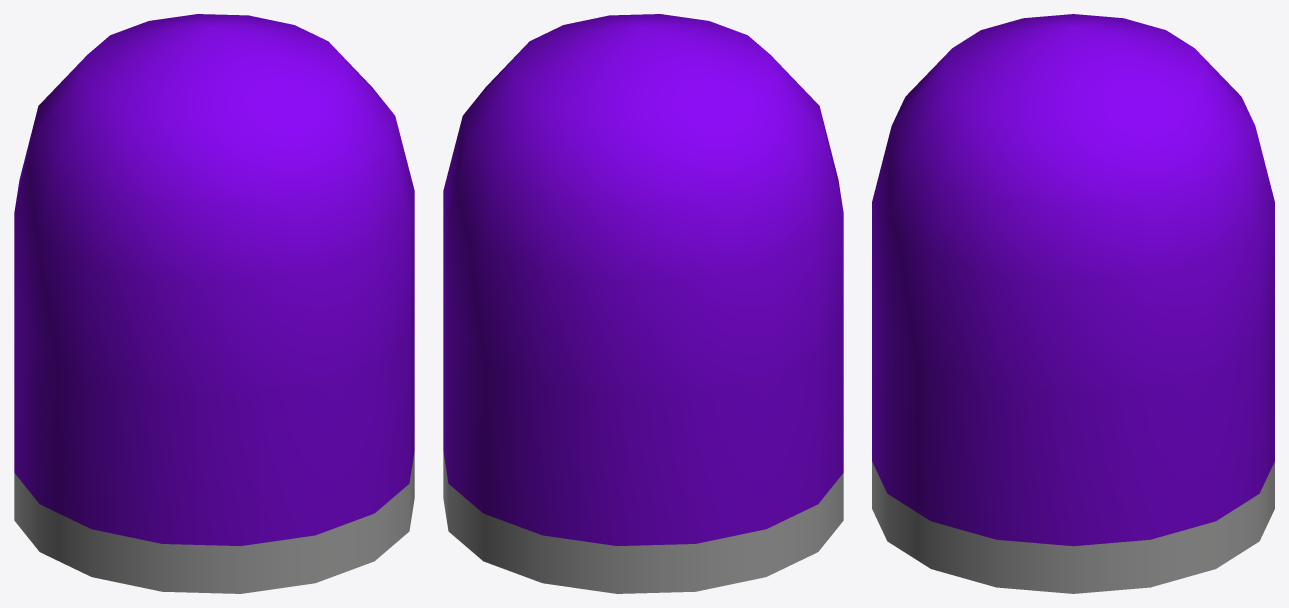
Rendered from Arm_City_LSleeve_Purple_01_L.fbx.
3 views of the same model, side by side, from view 1: azimuth 30°, elevation 25°; view 2: azimuth 150°, elevation 25°; view 3: azimuth 270°, elevation 25° (orthographic).
Visible parts, largest first — view 1: Arm_City_LSleeve_Purple_01_L; view 2: Arm_City_LSleeve_Purple_01_L; view 3: Arm_City_LSleeve_Purple_01_L.
Part boxes in pixels (x1,y1,x2,y2): Arm_City_LSleeve_Purple_01_L: (14,14,414,593); Arm_City_LSleeve_Purple_01_L: (443,14,843,593); Arm_City_LSleeve_Purple_01_L: (872,14,1274,593).
Size of the model in its own units: 48.18 by 63.45 by 48.18.
